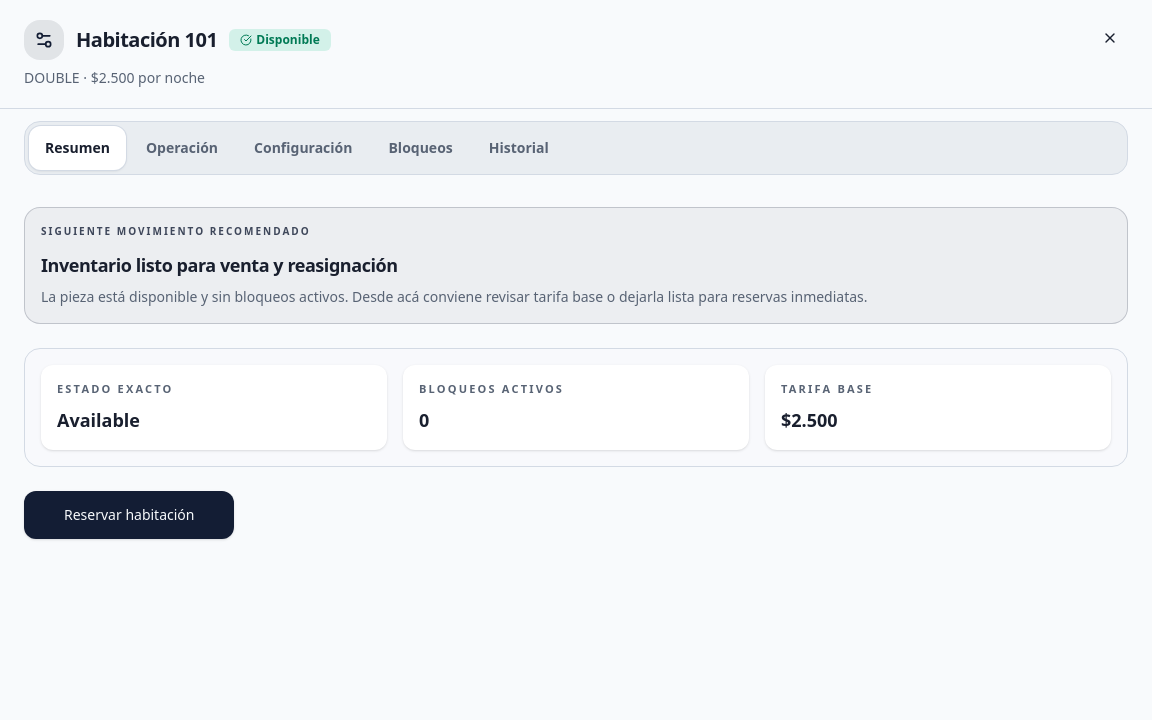
Test: RoomDetailWorkspace › keeps holds local error actionable with retry
Click the tab "Bloqueos" at [421, 148], box [372,126,469,170]
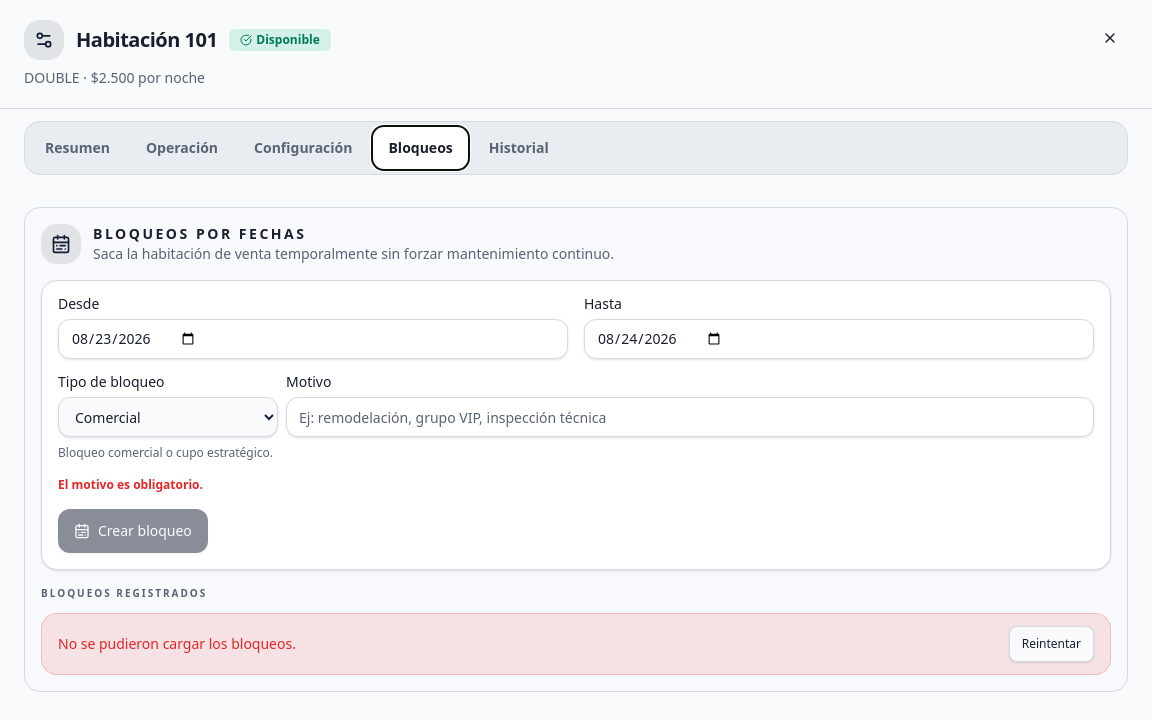
Expected: the text "No se pudieron cargar los bloqueos." is shown, [58,634,296,654]
Click the button "Reintentar" at [1051, 644], box [1009,626,1094,662]
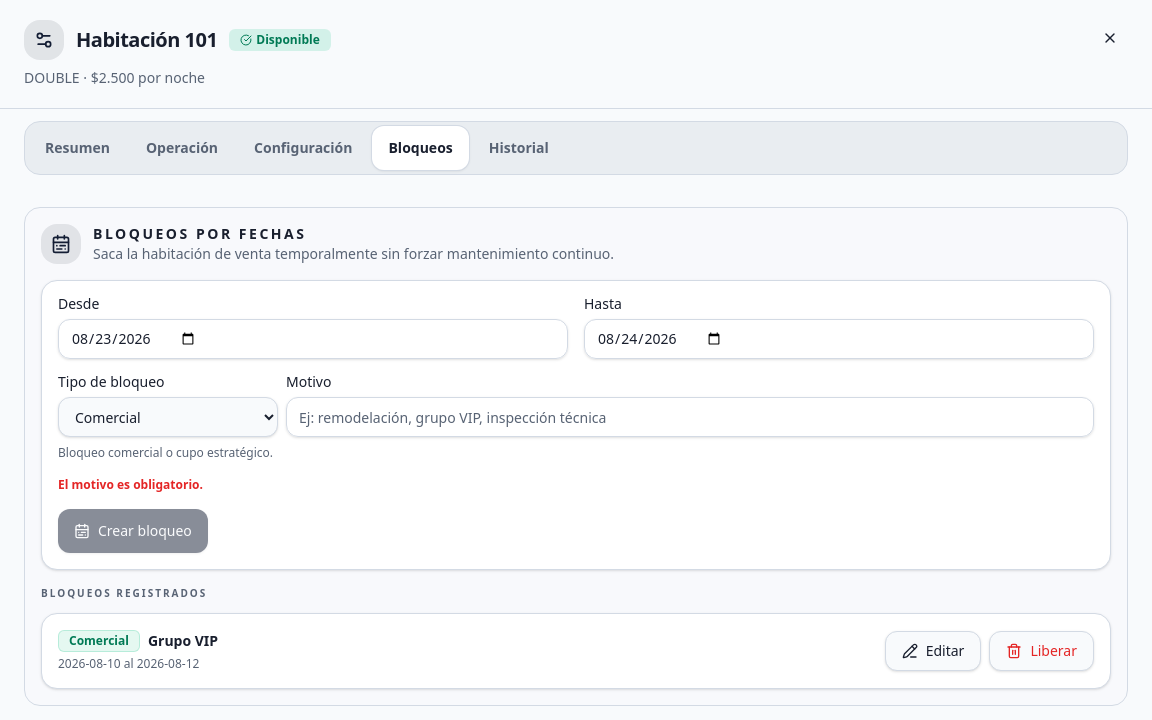
Expected: the text "Grupo VIP" is shown, [148,631,218,651]
